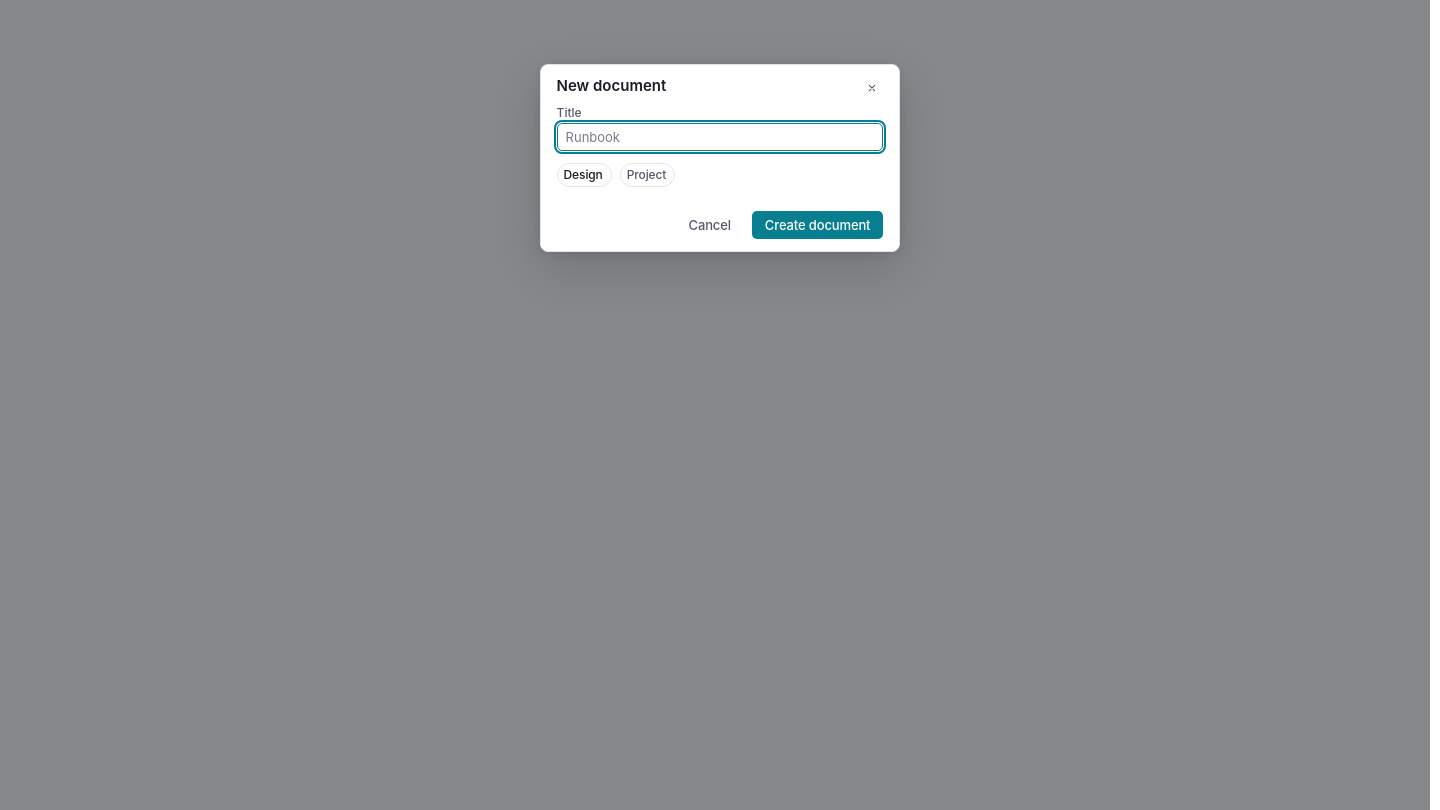
Test: CreateDocumentModal › says a document needs a title rather than disabling the button
Click the button "Create document": point(818, 225) [752,211,884,239]
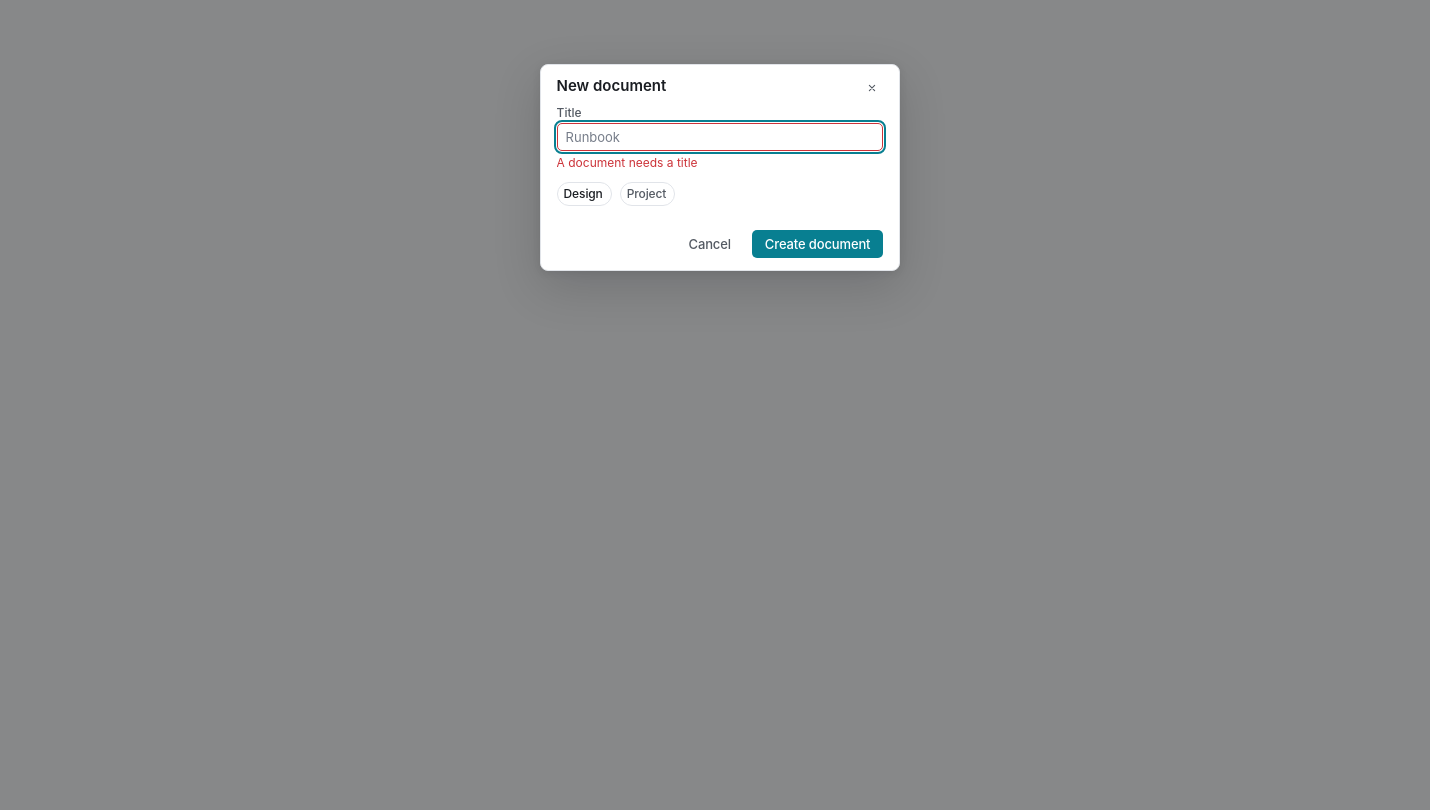
expect the text "A document needs a title" is shown: met, box [557,155,698,170]
